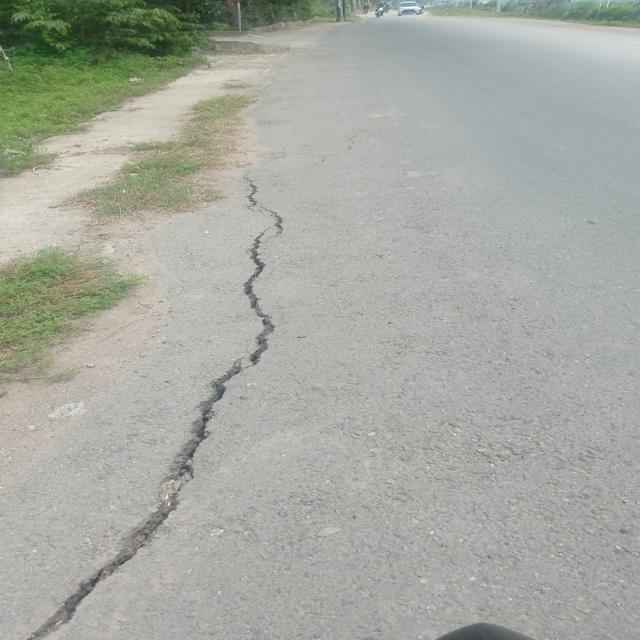Memanjang: (6, 114, 308, 640)
